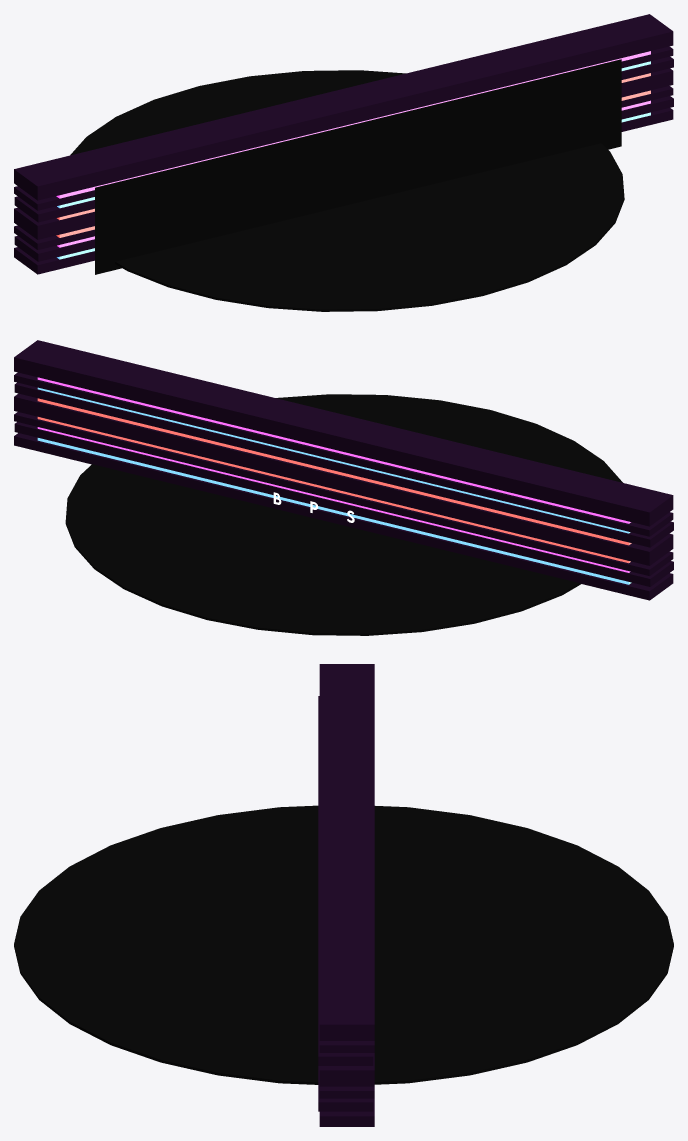
File: good_1.gltf
3 renders of one model, top to bottom at view 1: azimuth 30°, elevation 25°; view 2: azimuth 150°, elevation 25°; view 3: azimuth 270°, elevation 25°, orthographic. The views are drawn at different scales.
Visible parts, largest first — view 1: Cylinder, Plane, Cube.003, Cube, Cube.034, Cube.018, Cube.007, Cube.005, Cube.002, Cube.004; view 2: Cylinder, Cube.003, Cube, Cube.034, Cube.007, Cube.018, Cube.002, Cube.005, Cube.006, Cube.033, Cube.001, Cube.004 (+2 smaller); view 3: Cylinder, Cube.003, Cube.007, Cube, Cube.034, Cube.018, Cube.002.
Part boxes in pixels (<box>): Cylinder: <box>70,70,624,311</box>; Plane: <box>95,59,621,274</box>; Cube.003: <box>14,14,673,200</box>; Cube: <box>14,68,673,239</box>; Cube.034: <box>14,108,673,274</box>; Cube.018: <box>14,96,673,261</box>; Cube.007: <box>14,56,673,222</box>; Cube.005: <box>14,46,673,210</box>; Cube.002: <box>14,86,673,249</box>; Cube.004: <box>56,51,650,198</box>; Cylinder: <box>65,394,622,635</box>; Cube.003: <box>14,340,673,526</box>; Cube: <box>14,393,673,565</box>; Cube.034: <box>14,433,673,600</box>; Cube.007: <box>14,382,673,547</box>; Cube.018: <box>14,422,673,586</box>; Cube.002: <box>14,412,673,576</box>; Cube.005: <box>14,372,673,536</box>; Cube.006: <box>37,398,631,545</box>; Cube.033: <box>37,438,631,584</box>; Cube.001: <box>37,417,630,563</box>; Cube.004: <box>37,377,630,523</box>; Cylinder: <box>14,805,673,1084</box>; Cube.003: <box>319,664,374,1040</box>; Cube.007: <box>318,696,373,1065</box>; Cube: <box>319,1053,374,1086</box>; Cube.034: <box>319,1098,374,1126</box>; Cube.018: <box>318,1066,373,1111</box>; Cube.002: <box>319,1086,374,1098</box>.
Size of the model in its own units: 184 by 33.74 by 142.
